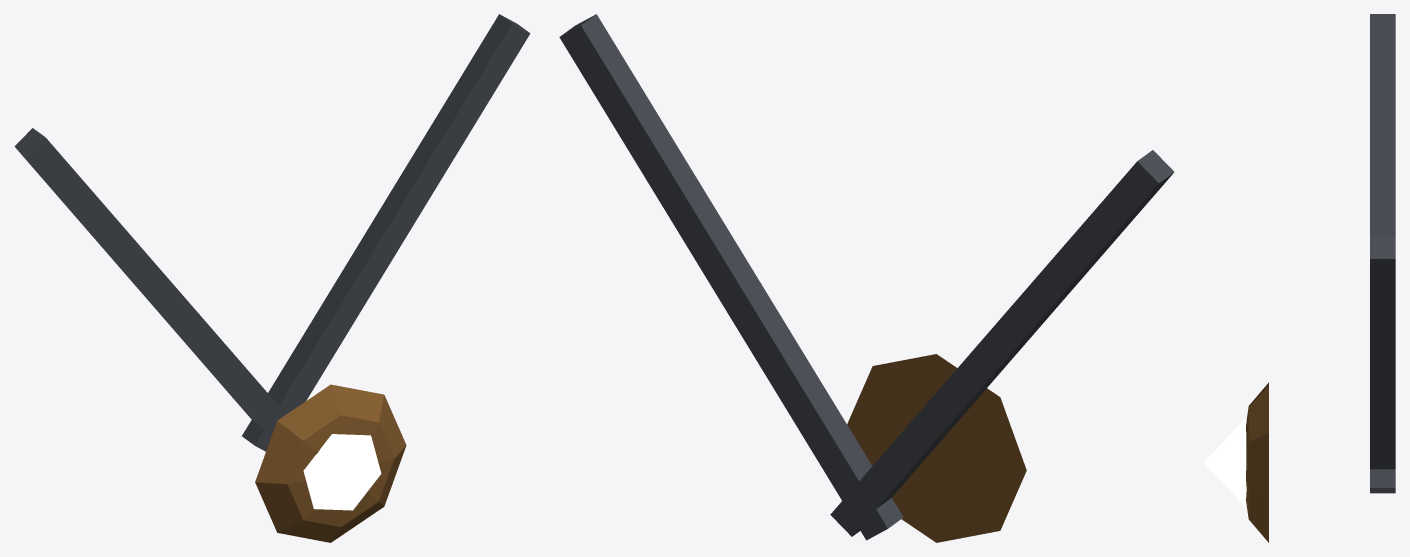
Rendered from armor_amulet_common_orc.glb.
3 views of the same model, side by side, from view 1: azimuth 30°, elevation 25°; view 2: azimuth 150°, elevation 25°; view 3: azimuth 270°, elevation 25° (orthographic). The views are drawn at different scales.
Parts seen in each view (by area): view 1: armor_amulet_common_orc__spine_03; view 2: armor_amulet_common_orc__spine_03; view 3: armor_amulet_common_orc__spine_03.
Boxes of the visible parts, x1,y1,x2,y2 form: armor_amulet_common_orc__spine_03: [14, 14, 530, 542]; armor_amulet_common_orc__spine_03: [559, 14, 1174, 542]; armor_amulet_common_orc__spine_03: [1203, 14, 1395, 542].
Bounding box in the file's own units: 19.92 × 16.07 × 6.75.
